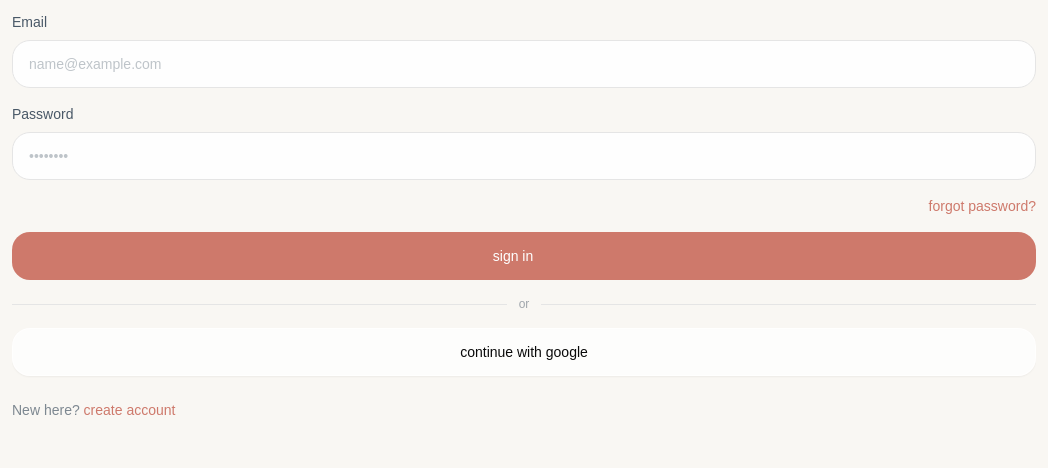
AuthForm › shows an error when login fails
The image size is (1048, 468).
Type "test@example.com" into the field labelled "Email" at (524, 64), box [12,40,1036,88]
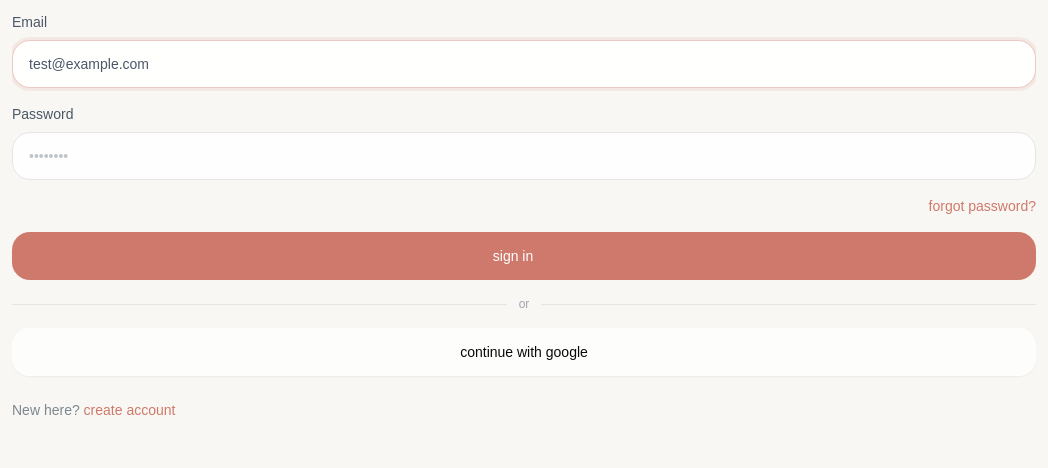
Type "password123" into the password field labelled "Password" at (524, 156), box [12,132,1036,180]
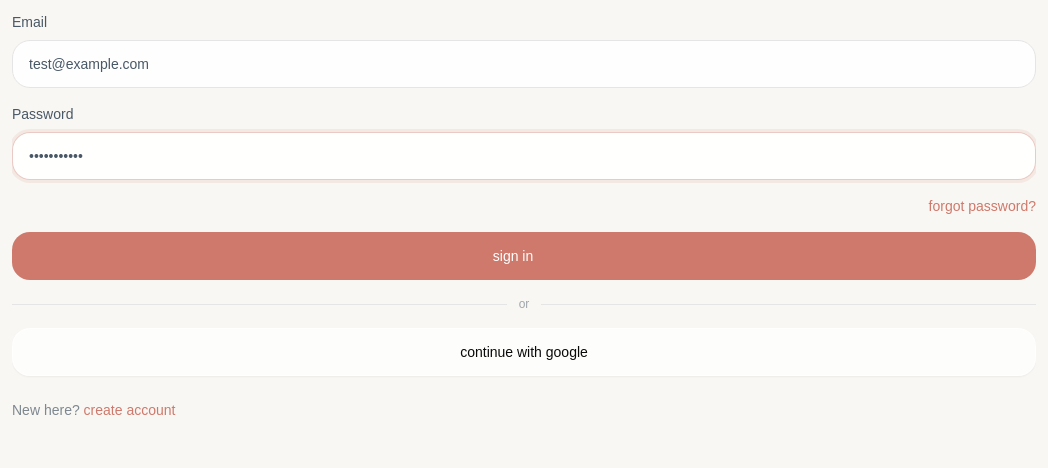
Click the button "sign in" at (524, 256), box [12,232,1036,280]
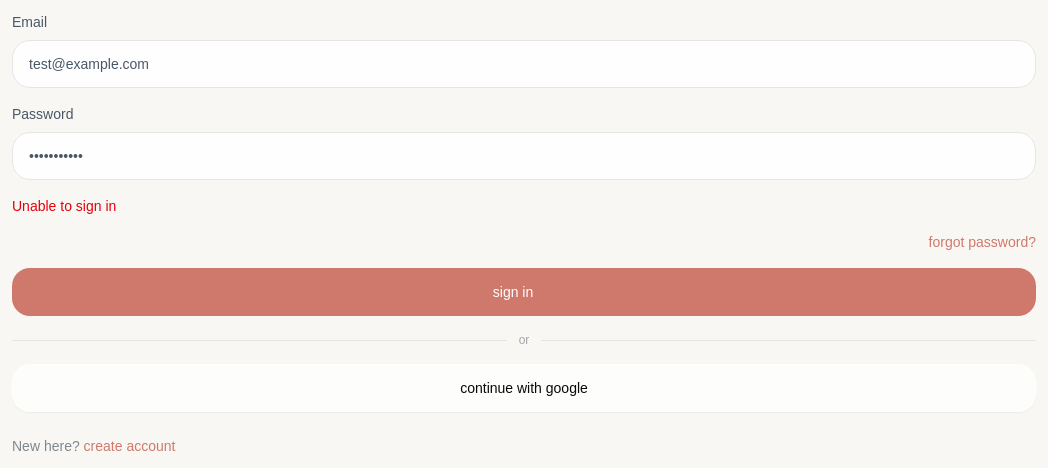
expect the message reads "Unable to sign in": met, box [12,198,116,214]
